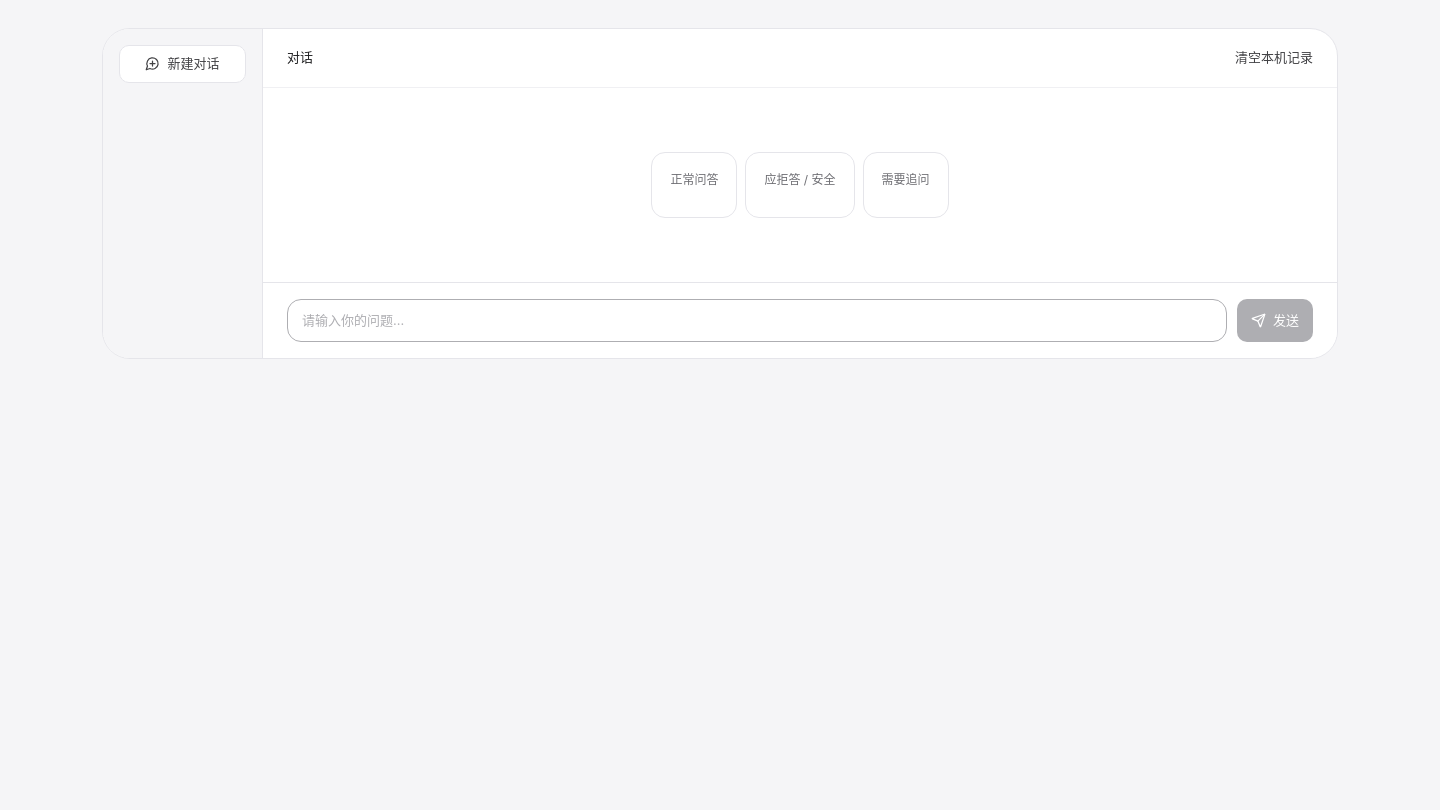
Test: keeps local chat records until clearing is explicitly confirmed
Click the button "清空本机记录".
click(1274, 58)  # box x1=1235 y1=45 x2=1313 y2=70
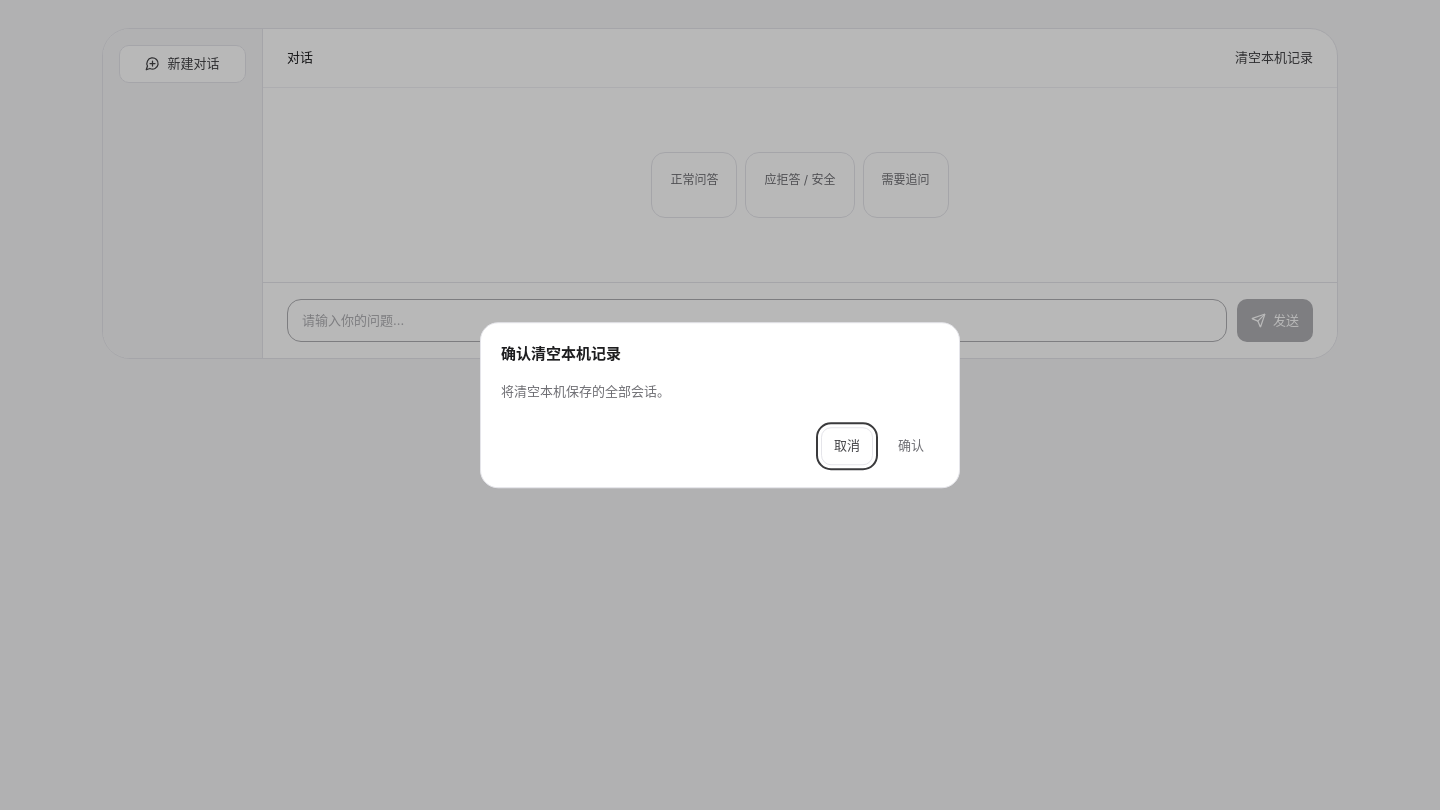
Check: the dialog shows "确认清空本机记录", box x1=501 y1=344 x2=621 y2=363
Click the button "取消".
click(847, 446)  # box x1=821 y1=427 x2=873 y2=465
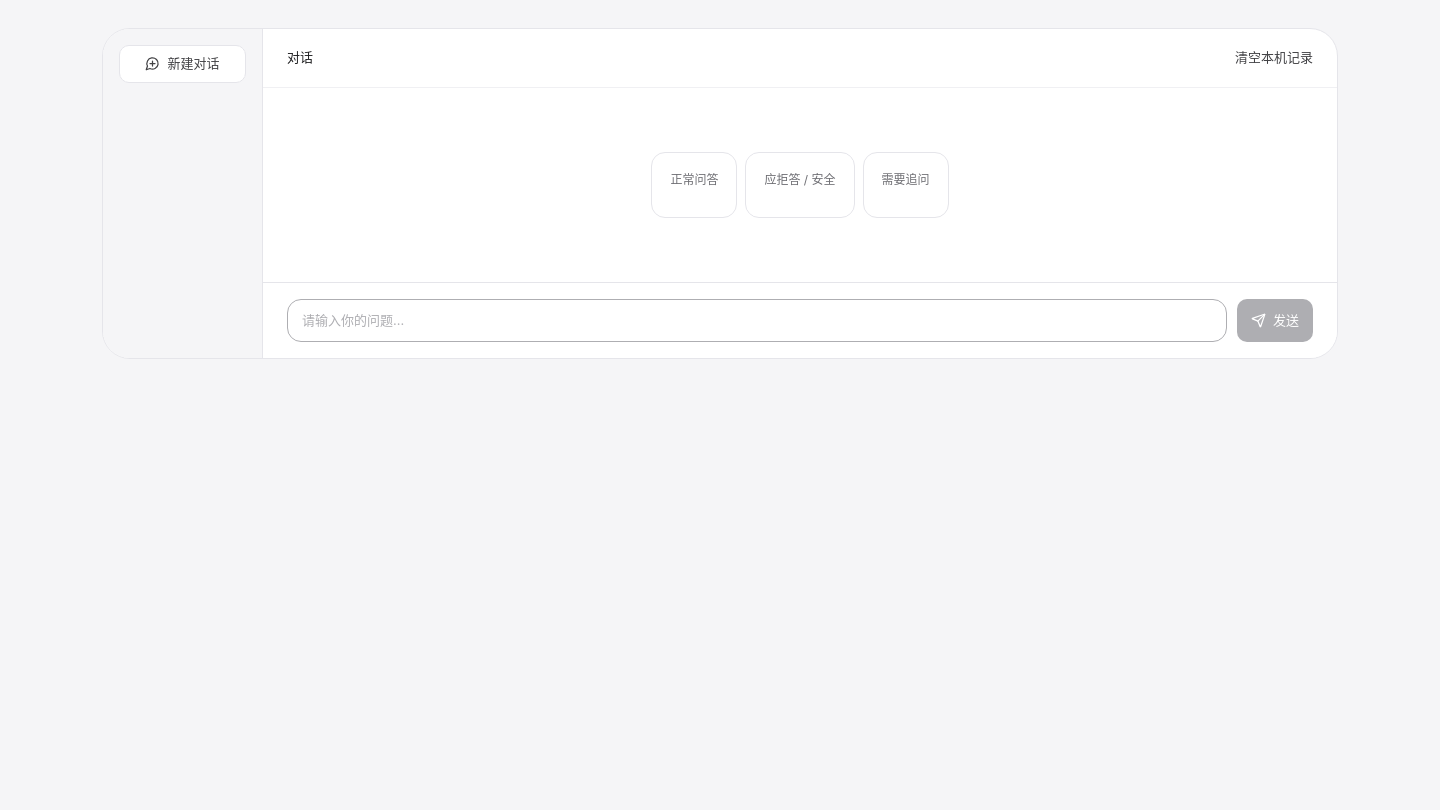
Check: the dialog is gone
